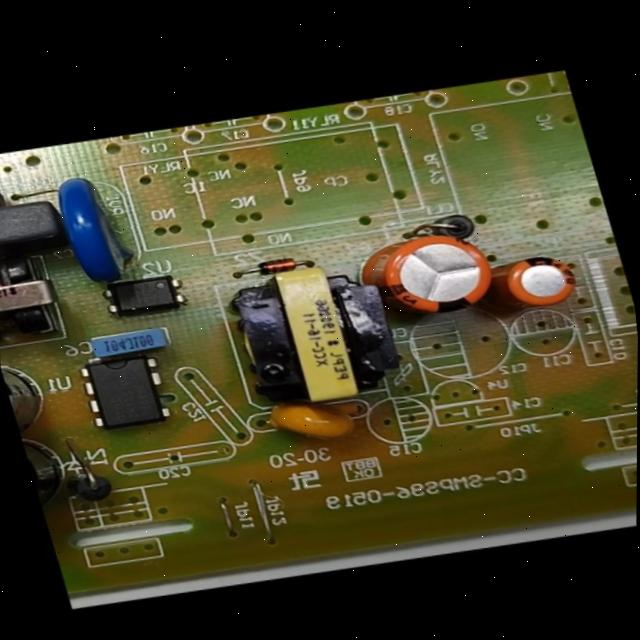Cap1: (337, 205, 515, 344)
Cap2: (487, 241, 587, 323)
Cap3: (0, 342, 67, 448)
Cap4: (17, 417, 95, 528)
MOSFET: (69, 338, 182, 441)
Mov: (40, 160, 148, 300)
Resistor: (0, 151, 19, 211)
Transformer: (217, 243, 410, 428), (0, 240, 76, 353)
